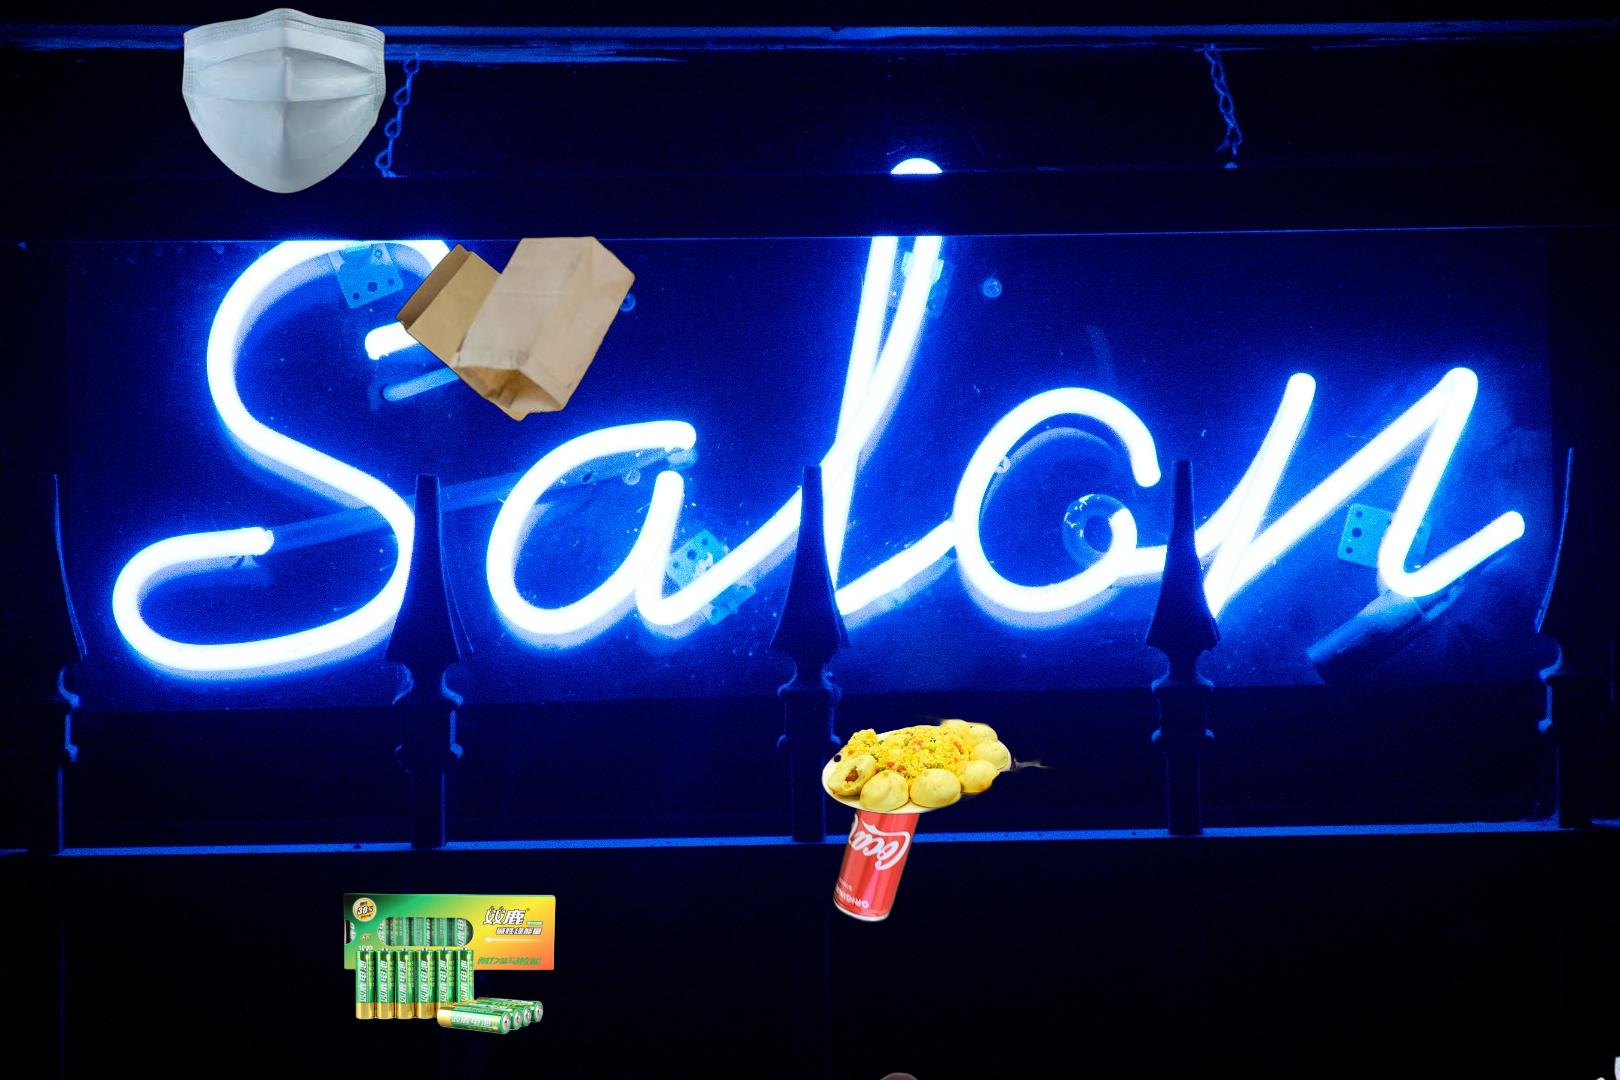battery: (341, 890, 559, 1037)
biological: (817, 652, 1242, 815)
metal-cans: (828, 744, 937, 929)
paper-bag: (392, 233, 639, 425)
shoes: (630, 1068, 955, 1080)
trash: (180, 5, 397, 196), (1580, 1006, 1620, 1080)
